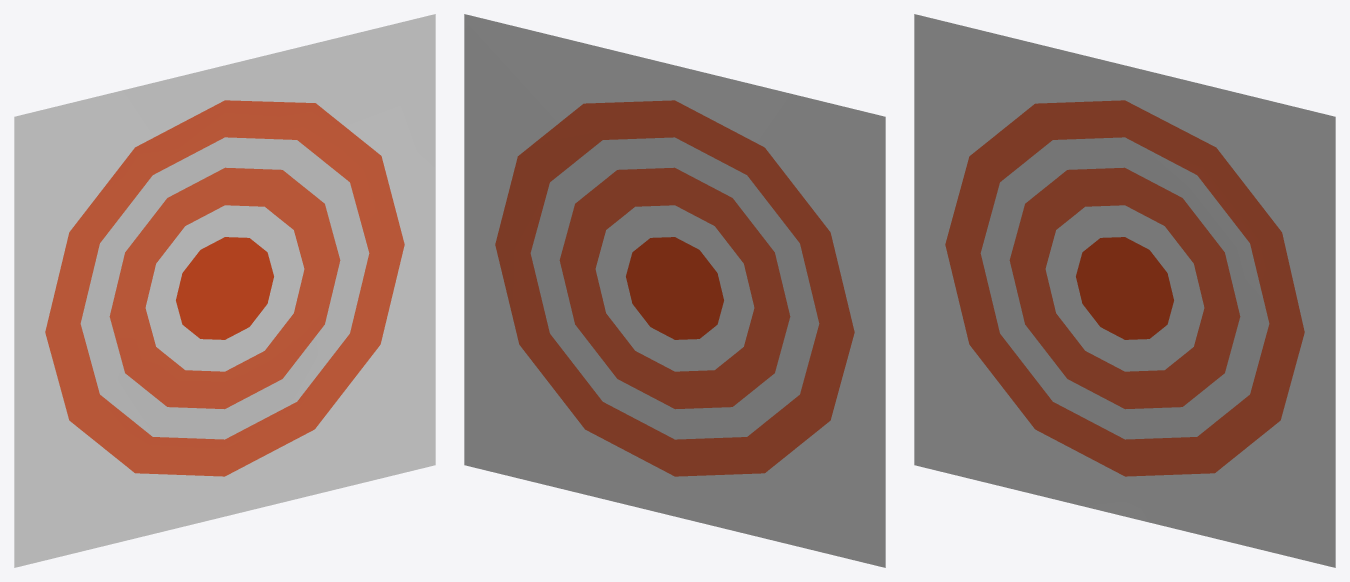
File: itemTarget.fbx
3 renders of one model, left to right at view 1: azimuth 30°, elevation 25°; view 2: azimuth 150°, elevation 25°; view 3: azimuth 330°, elevation 25°, orthographic.
Parts seen in each view (by area): view 1: target; view 2: target; view 3: target.
Boxes of the visible parts, x1,y1,x2,y2 form: target: (14, 14, 435, 567); target: (464, 14, 885, 567); target: (914, 14, 1335, 567).
Bounding box in the file's own units: 252 × 258 × 0.3232.
